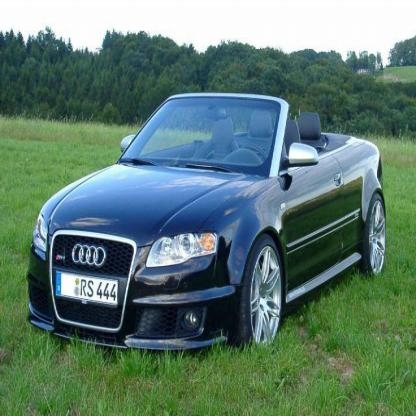Vehicle: (26, 92, 387, 356)
